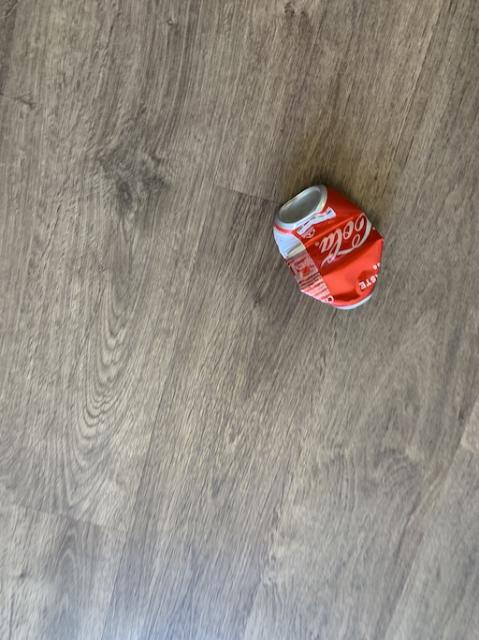metal: (273, 184, 382, 307)
